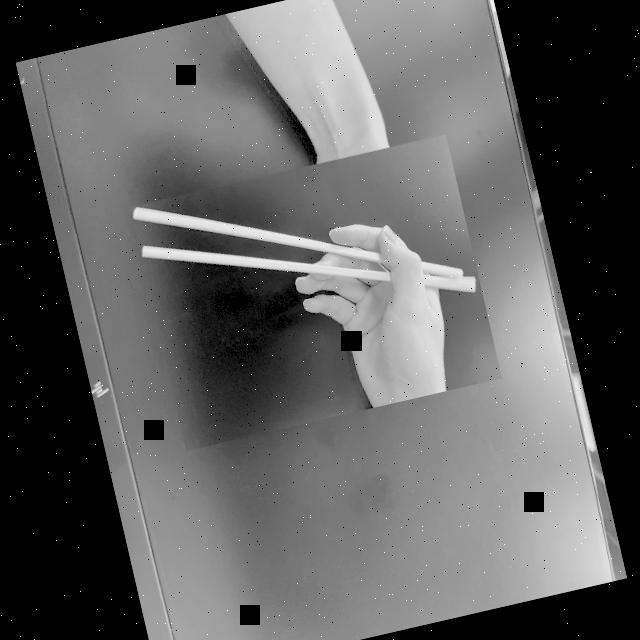stick: (128, 134, 500, 450)
